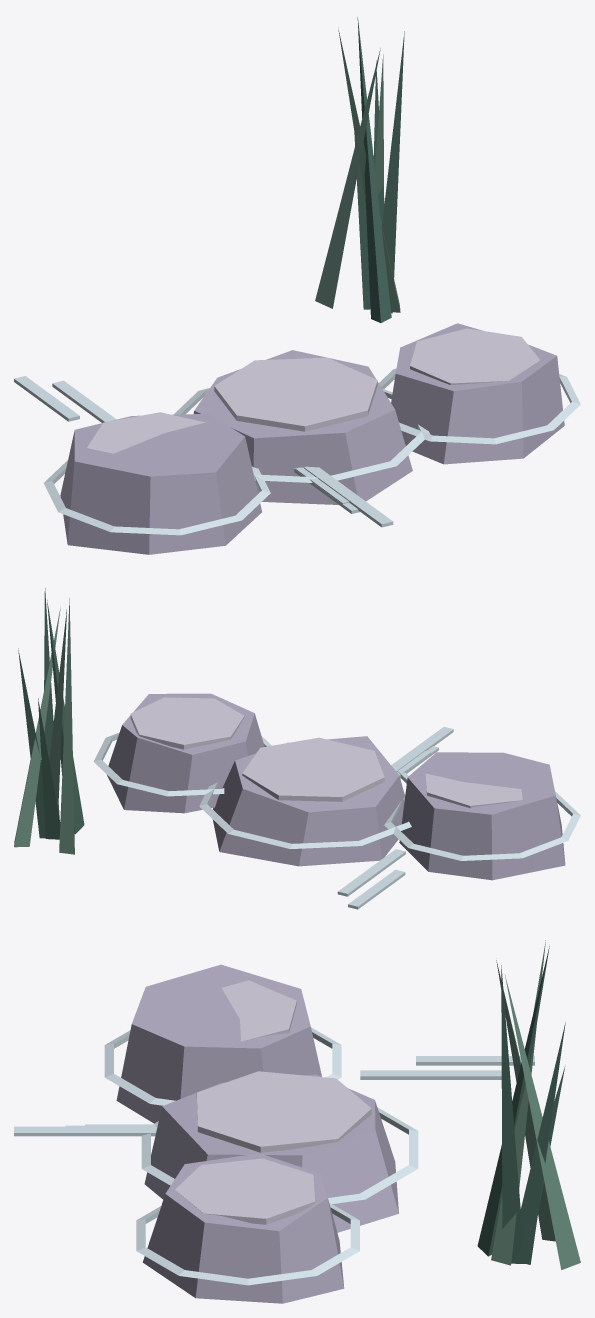
The model's file is ford_stones.glb.
The picture shows the model from 3 angles, top to bottom: view 1: azimuth 30°, elevation 25°; view 2: azimuth 150°, elevation 25°; view 3: azimuth 270°, elevation 25°; orthographic projection. The views are drawn at different scales.
Parts seen in each view (by area): view 1: ford_stones; view 2: ford_stones; view 3: ford_stones.
Boxes of the visible parts, x1,y1,x2,y2 form: ford_stones: (14,17,580,554); ford_stones: (14,588,580,909); ford_stones: (14,940,580,1303).
Bounding box in the file's own units: 0.9998 × 0.5759 × 0.8657.
